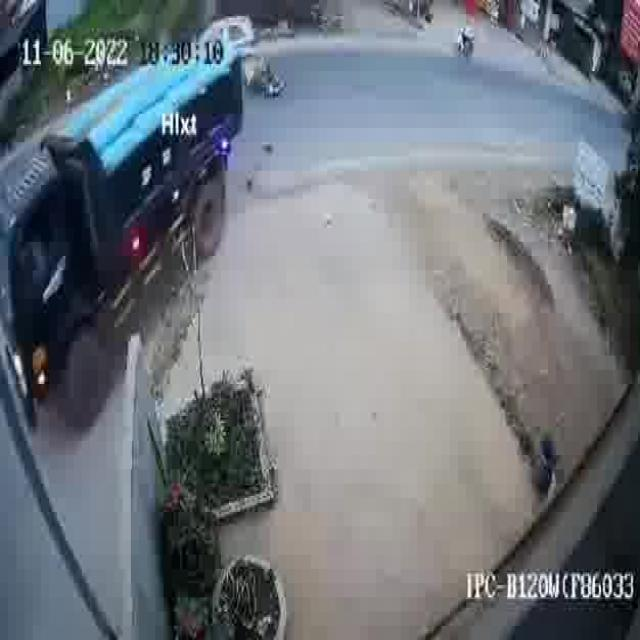multiple_accident: (240, 44, 288, 119)
